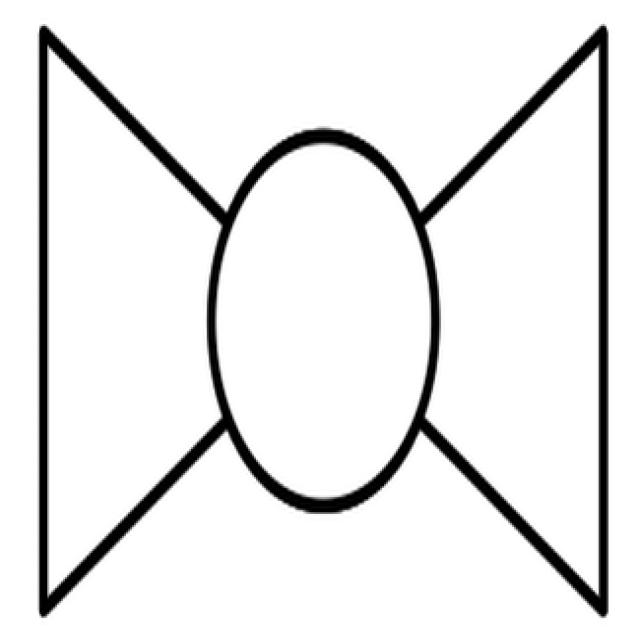ball valve: (44, 28, 607, 613)
